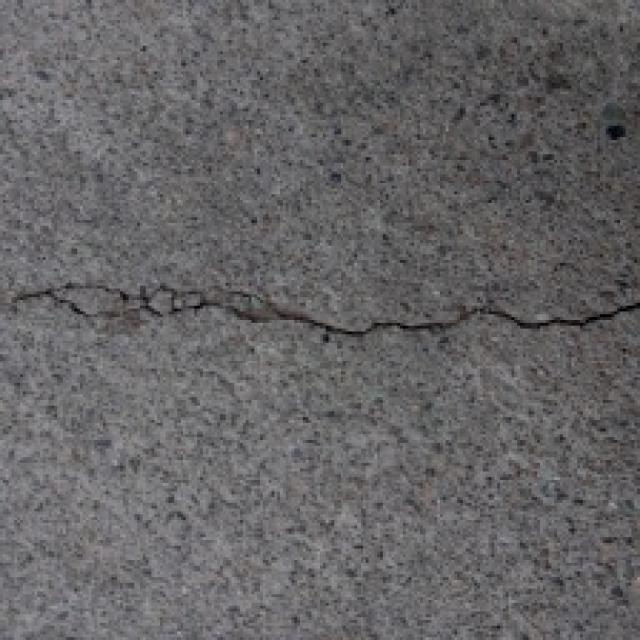crack: (0, 232, 640, 382)
